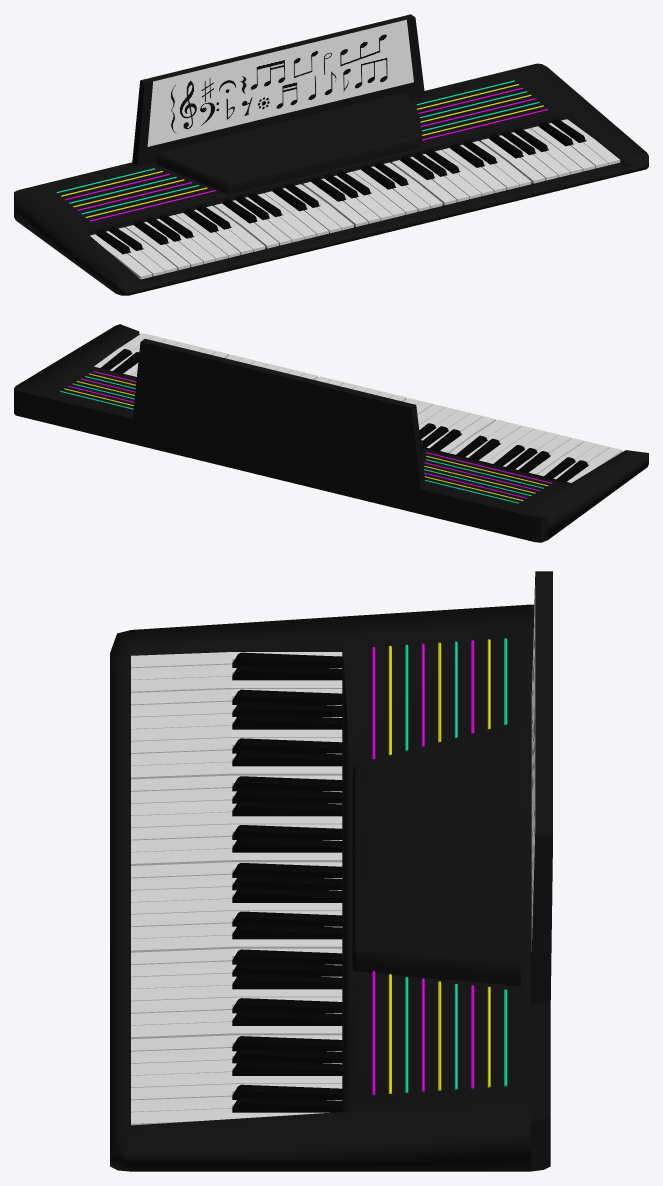
File: piano.fbx
3 views of the same model, one above another, from view 1: azimuth 30°, elevation 25°; view 2: azimuth 150°, elevation 25°; view 3: azimuth 270°, elevation 25° (orthographic). The views are drawn at different scales.
Visible parts, largest first — view 1: keyboard, color_stripes, polySurface22, polySurface29, polySurface36, polySurface15, polySurface1, key, polySurface37, polySurface16, polySurface8, polySurface23 (+28 smaller); view 2: keyboard, color_stripes, polySurface15, polySurface1, polySurface8, key, polySurface38, polySurface9, polySurface6, polySurface32, polySurface39, polySurface7 (+4 smaller); view 3: keyboard, color_stripes, polySurface11, polySurface18, polySurface25, polySurface9, polySurface38, polySurface10, polySurface24, polySurface6, polySurface31, polySurface17 (+55 smaller).
Boxes of the visible parts, x1,y1,x2,y2 form: keyboard: (14, 14, 648, 295); color_stripes: (56, 80, 547, 221); polySurface22: (303, 181, 367, 226); polySurface29: (392, 160, 456, 205); polySurface36: (480, 138, 545, 183); polySurface15: (214, 203, 278, 248); polySurface1: (125, 225, 190, 270); key: (90, 234, 152, 279); polySurface37: (530, 126, 595, 171); polySurface16: (264, 191, 328, 236); polySurface8: (176, 213, 240, 257); polySurface23: (353, 169, 417, 214); keyboard: (14, 324, 648, 542); color_stripes: (60, 371, 552, 503); polySurface15: (440, 416, 495, 453); polySurface1: (529, 438, 584, 474); polySurface8: (479, 426, 534, 462); key: (567, 447, 622, 482); polySurface38: (537, 441, 597, 476); polySurface9: (450, 419, 509, 454); polySurface6: (487, 429, 546, 463); polySurface32: (94, 333, 153, 367); polySurface39: (553, 444, 609, 479); polySurface7: (465, 422, 521, 457); keyboard: (110, 571, 552, 1171); color_stripes: (372, 638, 507, 1095); polySurface11: (131, 848, 342, 865); polySurface18: (131, 935, 342, 952); polySurface25: (131, 1022, 342, 1039); polySurface9: (131, 762, 342, 779); polySurface38: (131, 676, 342, 692); polySurface10: (131, 812, 342, 827); polySurface24: (131, 985, 342, 1001); polySurface6: (131, 725, 342, 741); polySurface31: (131, 1072, 342, 1087); polySurface17: (131, 898, 342, 914).
Size of the model in its own units: 111 by 20.9 by 40.23.
7 materials, 1 textured.
